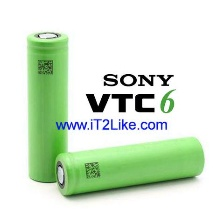battery: (52, 134, 207, 198), (25, 29, 70, 186)
